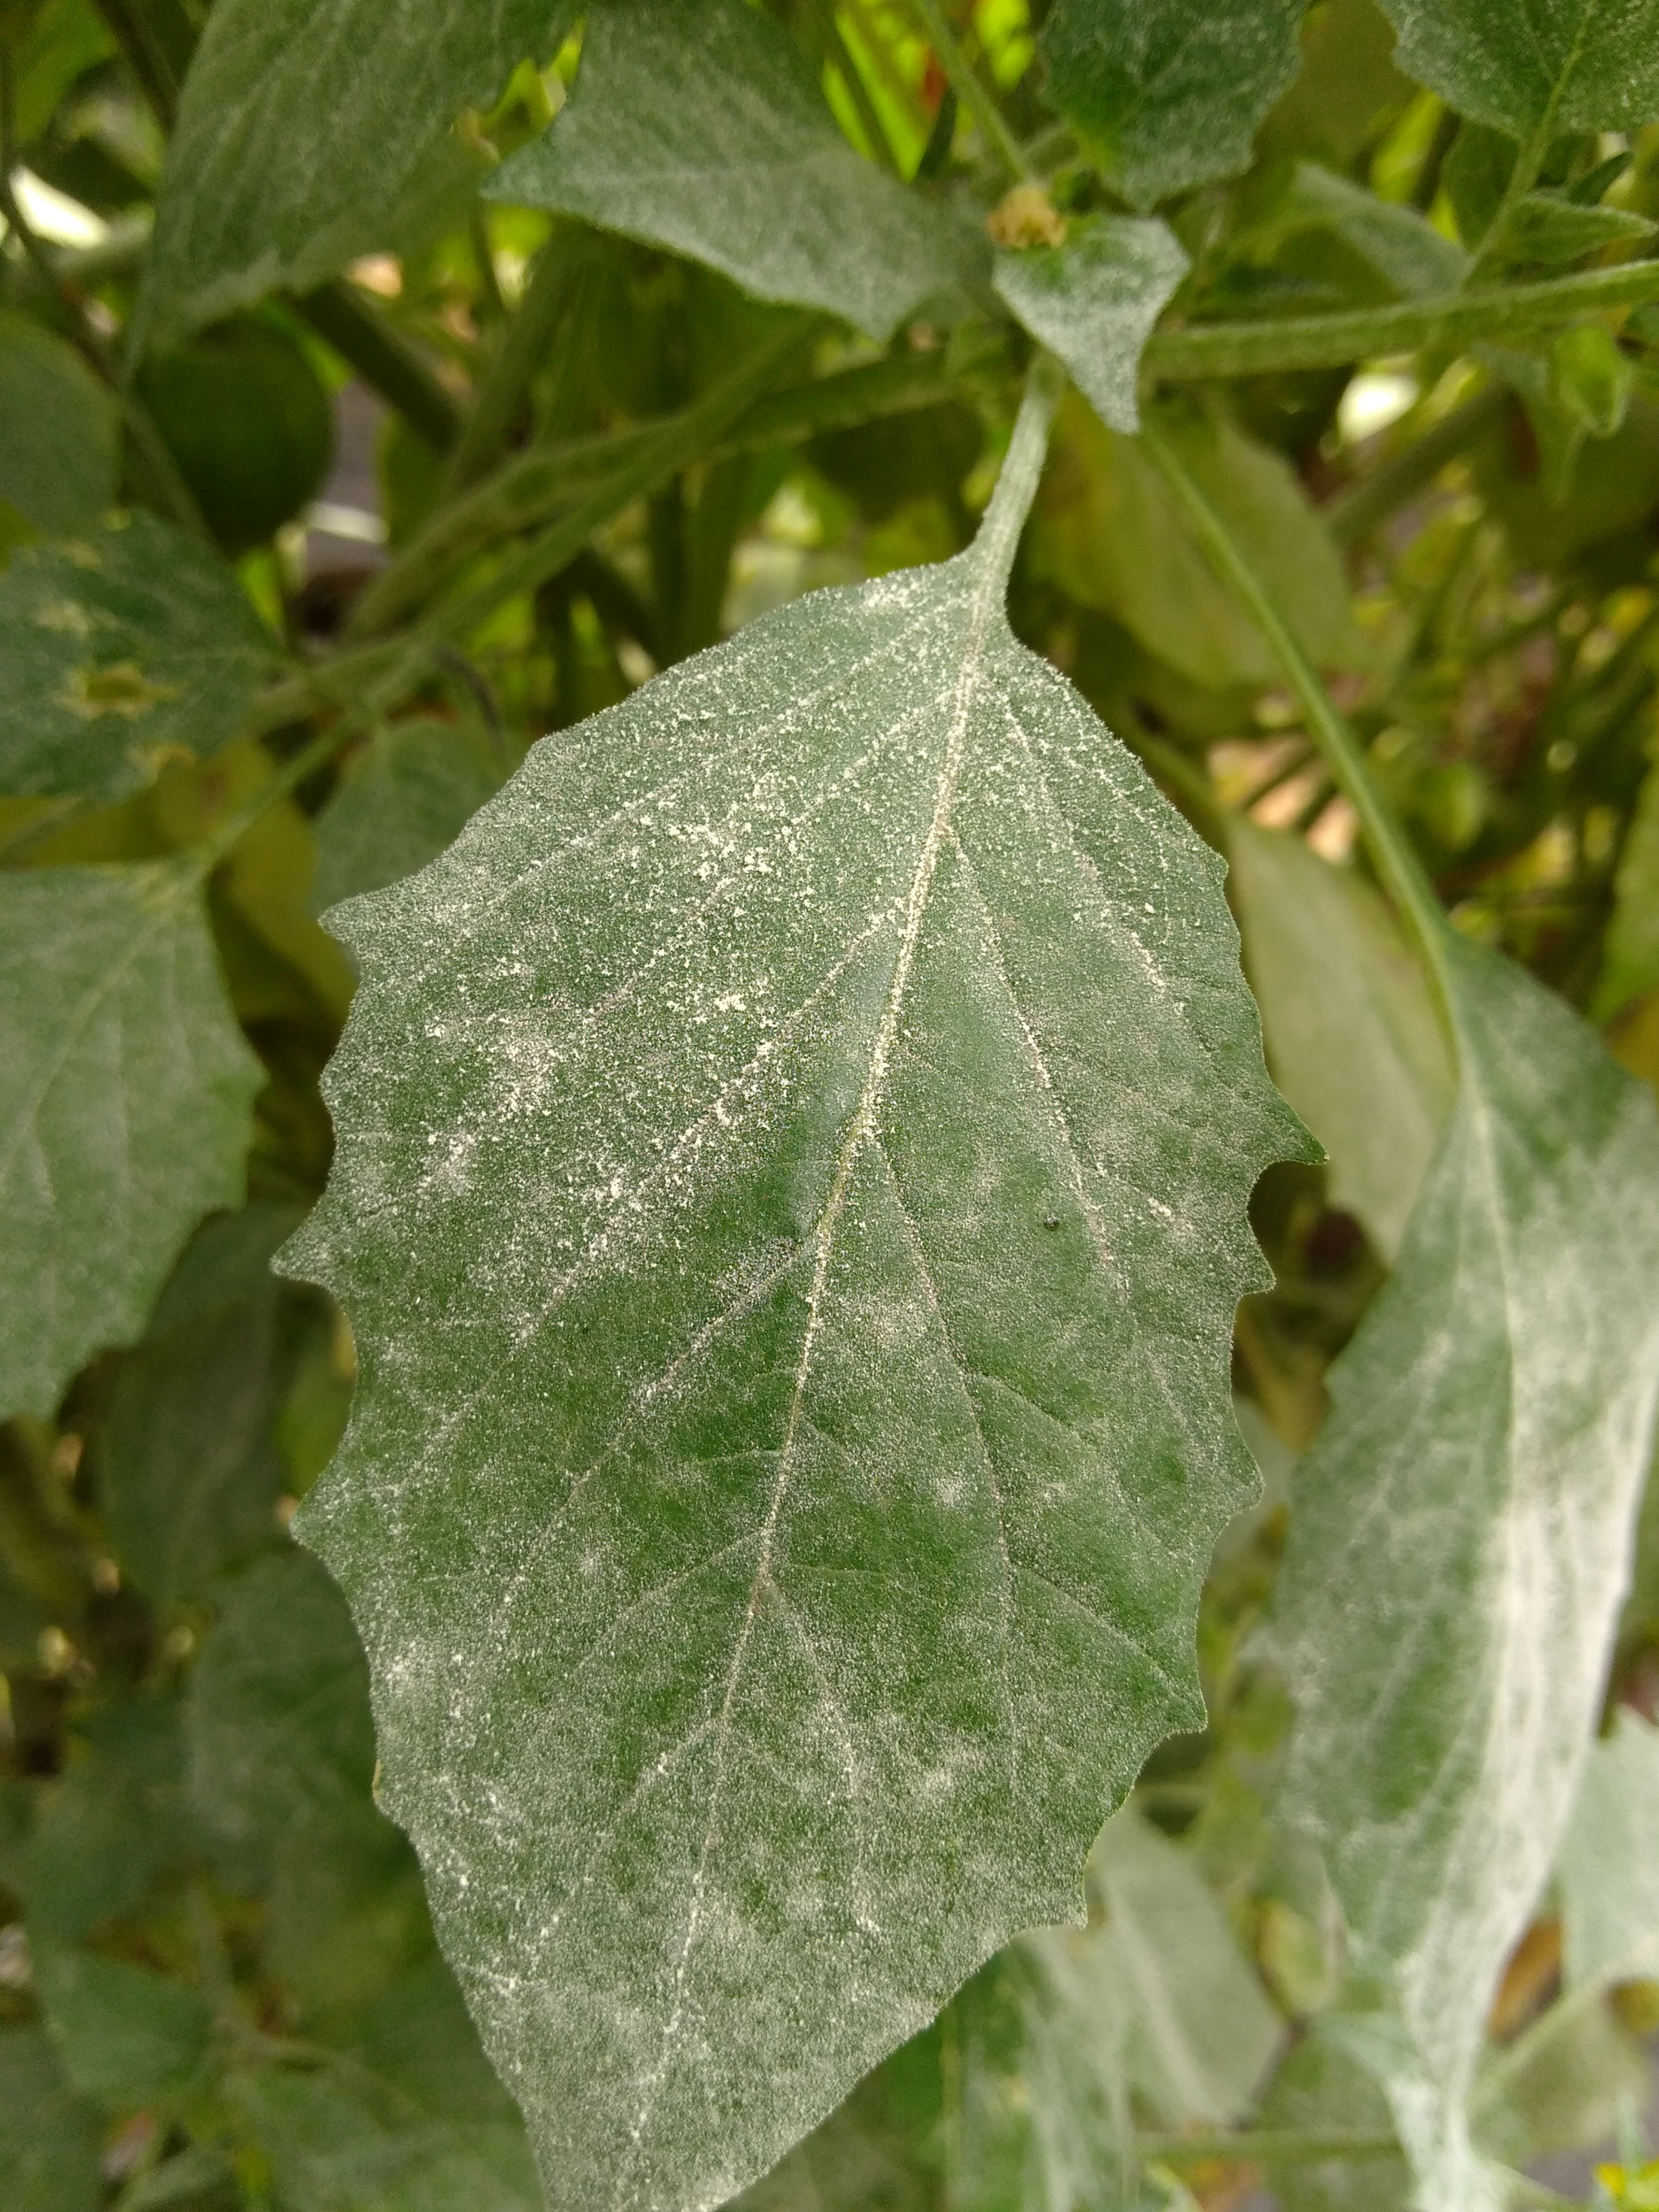blanca: (533, 1000, 779, 1244), (911, 1458, 983, 1531)
